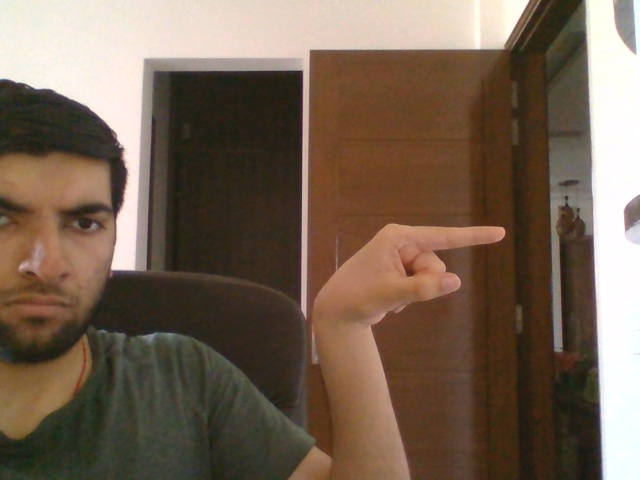LetterG: (312, 222, 506, 331)
